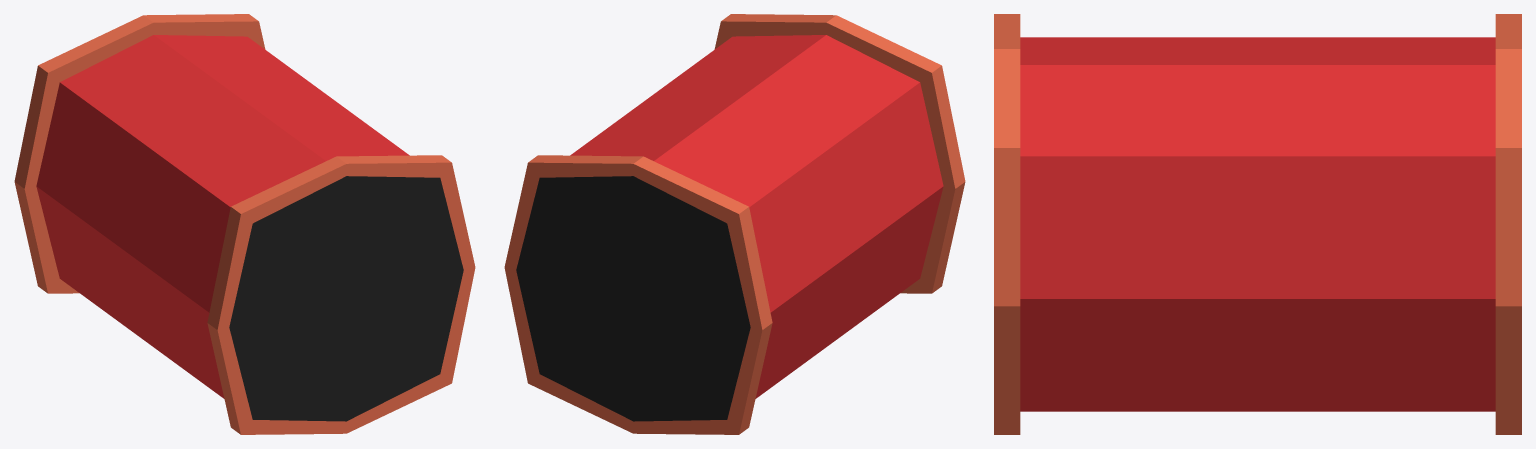
The model's file is ConnectorNode.fbx.
The picture shows the model from 3 angles, left to right: view 1: azimuth 30°, elevation 25°; view 2: azimuth 150°, elevation 25°; view 3: azimuth 270°, elevation 25°; orthographic projection. The views are drawn at different scales.
Visible parts, largest first — view 1: Connector_Straight_LOD0; view 2: Connector_Straight_LOD0; view 3: Connector_Straight_LOD0.
Part boxes in pixels (<box>): Connector_Straight_LOD0: <box>14,14,475,434</box>; Connector_Straight_LOD0: <box>504,14,965,434</box>; Connector_Straight_LOD0: <box>994,14,1521,434</box>.
Size of what is drawn, in the model's own units: 220 by 220 by 300.
2 materials, 1 textured.
